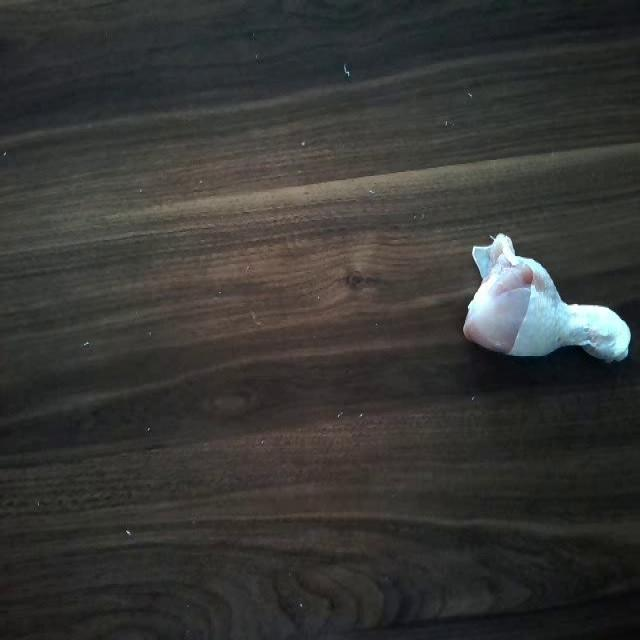leg: (458, 239, 632, 378)
